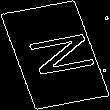N_E: (13, 29, 97, 81)
